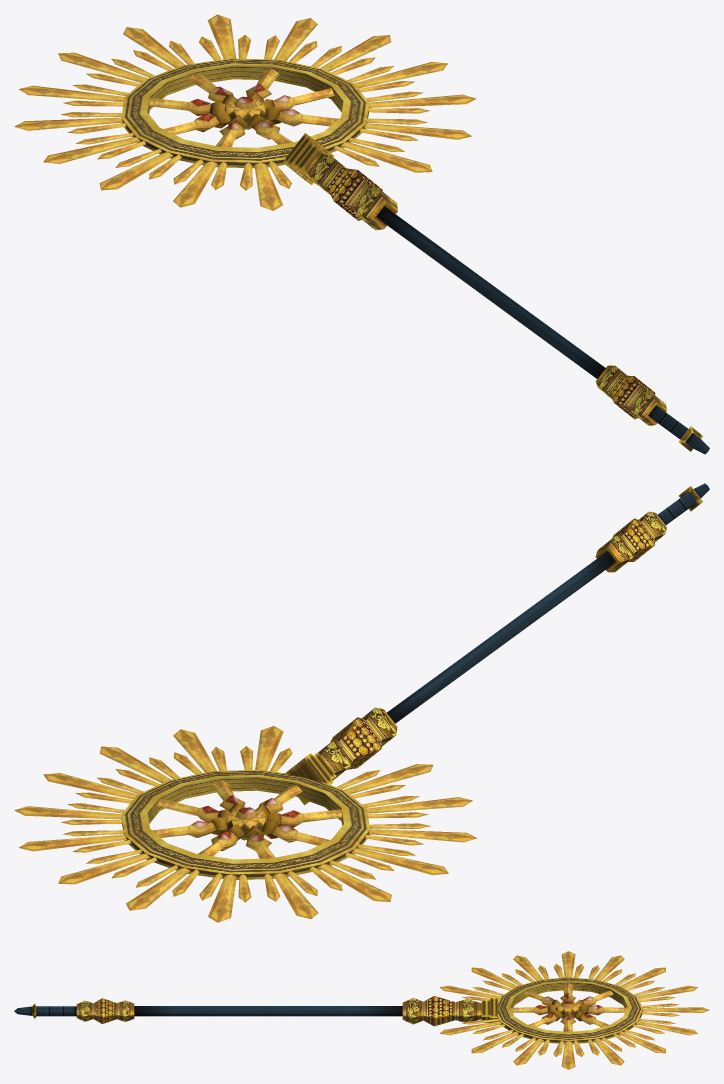
Rendered from wand_nitirin_wand_nitirin_wand.glb.
3 renders of one model, top to bottom at view 1: azimuth 30°, elevation 25°; view 2: azimuth 150°, elevation 25°; view 3: azimuth 270°, elevation 25°, orthographic. The views are drawn at different scales.
Size of the model in its own units: 0.9788 by 0.1177 by 2.42.
1 material, 1 textured.
